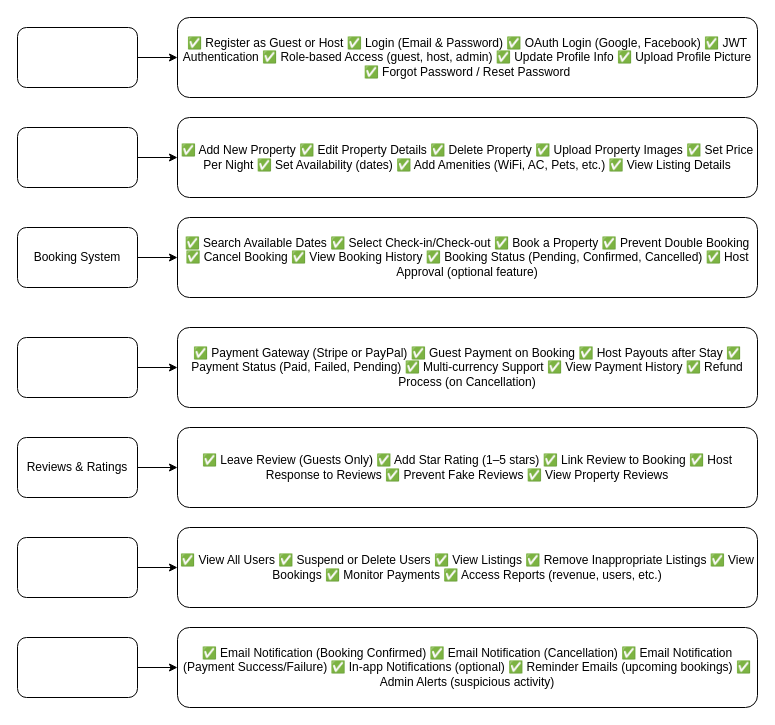
This 775x725 diagram has some shape labels left out. Here are the shapes that lost their labels. From the top down, the centre of each, then its label:
At (77,57): "User Management".
At (77,157): "Property Listings".
At (77,367): "Payments".
At (77,567): "Admin Dashboard".
At (77,667): "Notifications".
